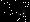person: (20, 10, 26, 21)
